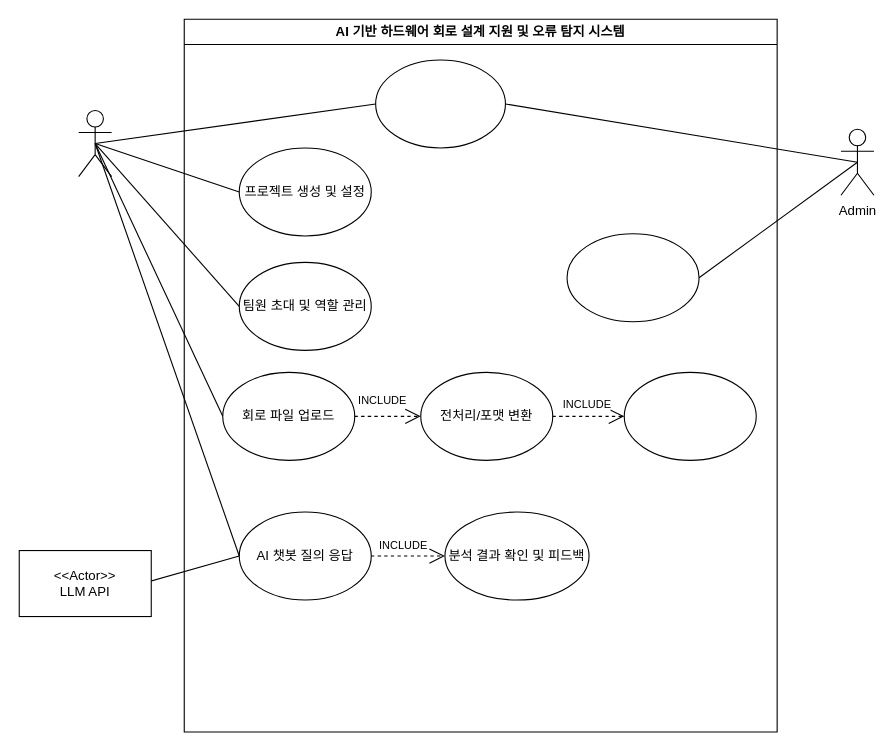
This 895x751 diagram has some shape labels left out. The shapes that lost their labels are listed below. From the top down, each one's centre as x and y in pixels, then its label:
[440,103]: 계정 생성 및 인증
[95,143]: User
[632,277]: 회원 관리
[689,415]: 회로 분석 실행
